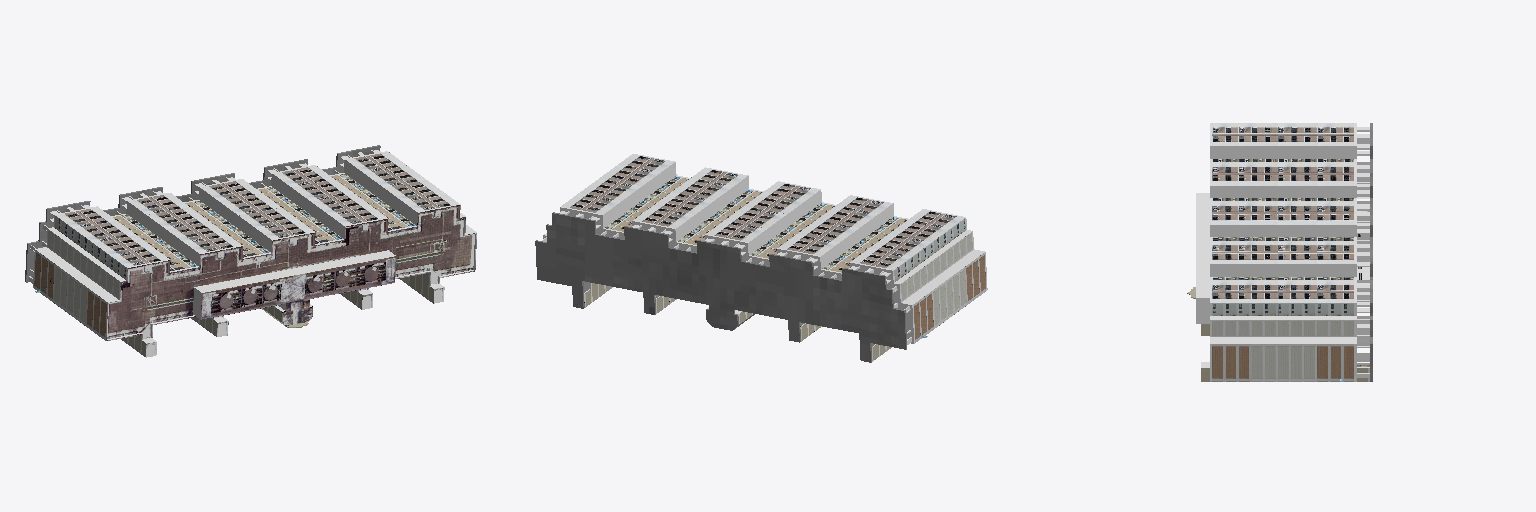
3 views of the same model, side by side, from view 1: azimuth 30°, elevation 25°; view 2: azimuth 150°, elevation 25°; view 3: azimuth 270°, elevation 25° (orthographic).
Parts seen in each view (by area): view 1: polygon.837; view 2: polygon.837; view 3: polygon.837.
Boxes of the visible parts, x1,y1,x2,y2 form: polygon.837: [25, 145, 476, 357]; polygon.837: [535, 154, 987, 362]; polygon.837: [1187, 123, 1372, 381].
Bounding box in the file's own units: 93.87 × 25.2 × 39.8.
Materials: 1 (1 with a texture image).